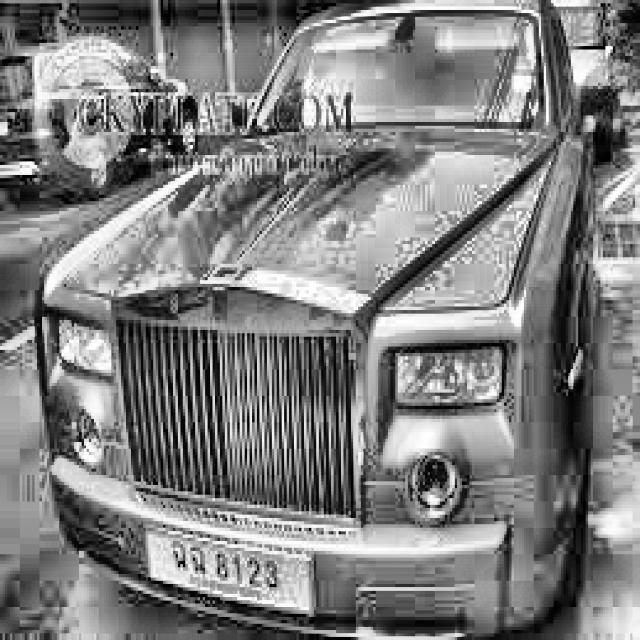license-plate: (145, 525, 317, 622)
